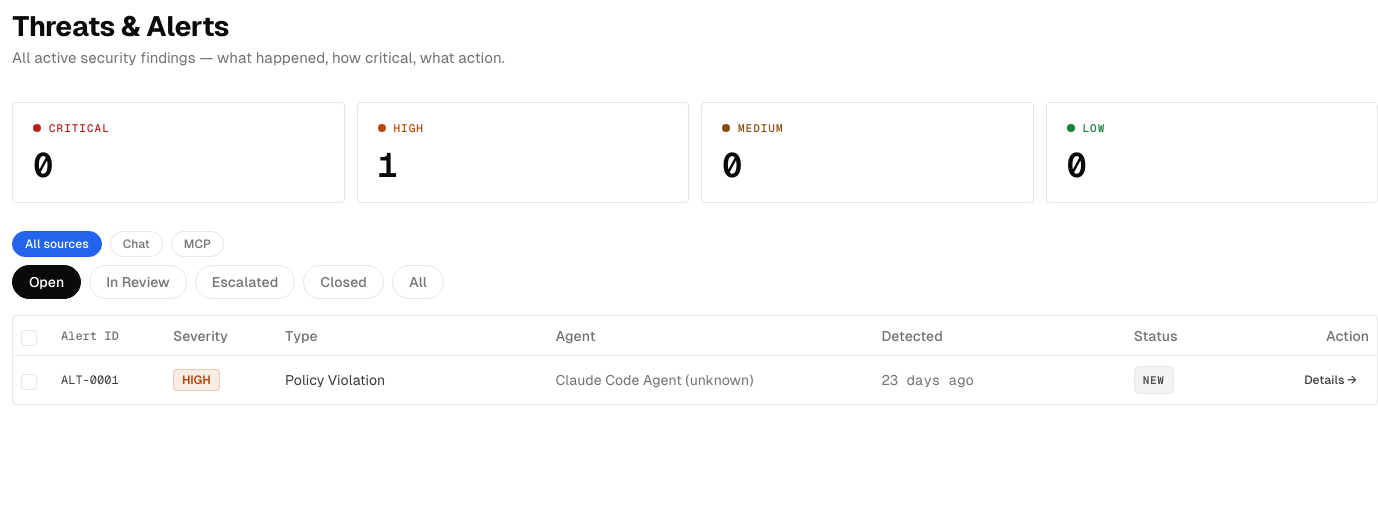
it: ThreatsAlertsPage — list › shows per-filter empty states when alerts exist but none match
Click the button "In Review": (138, 282) [89,265,187,299]
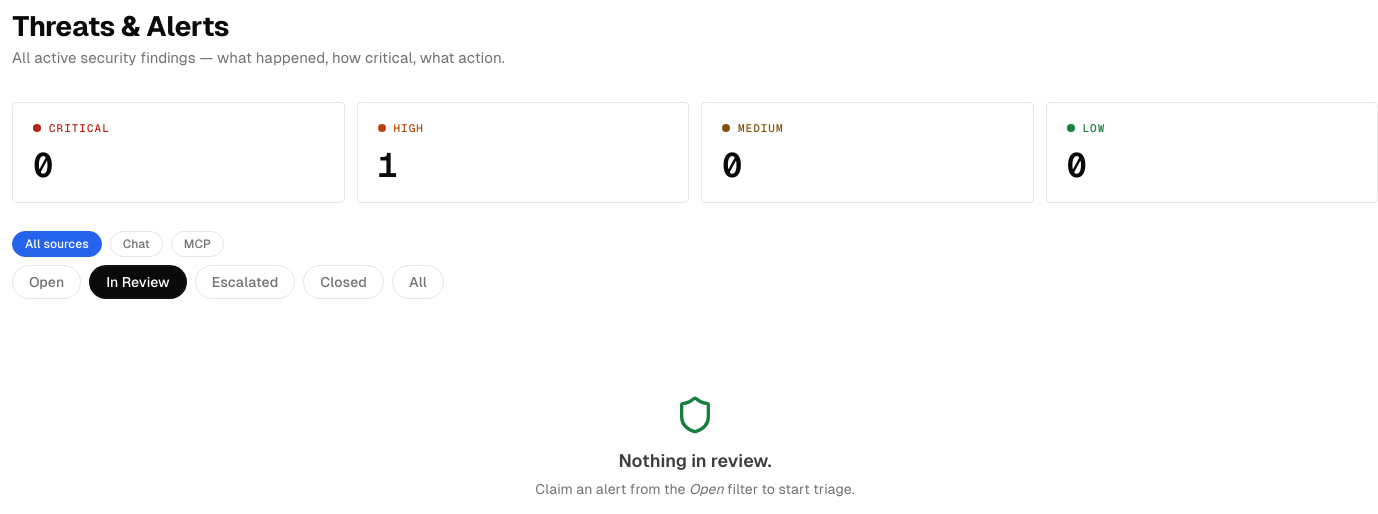
Result: the text "Nothing in review." is shown at [618,447,772,475]
Click the button "Escalated": (245, 282) [195,265,295,299]
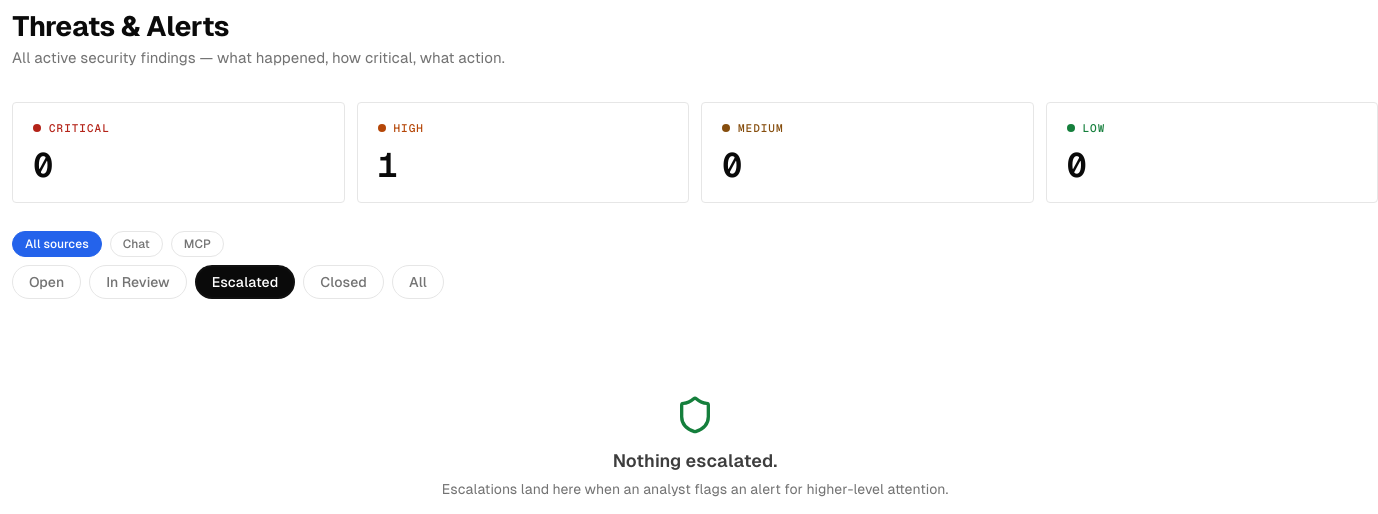
Result: the text "Nothing escalated." is shown at [613,447,777,475]
Click the button "Closed": (344, 282) [303,265,384,299]
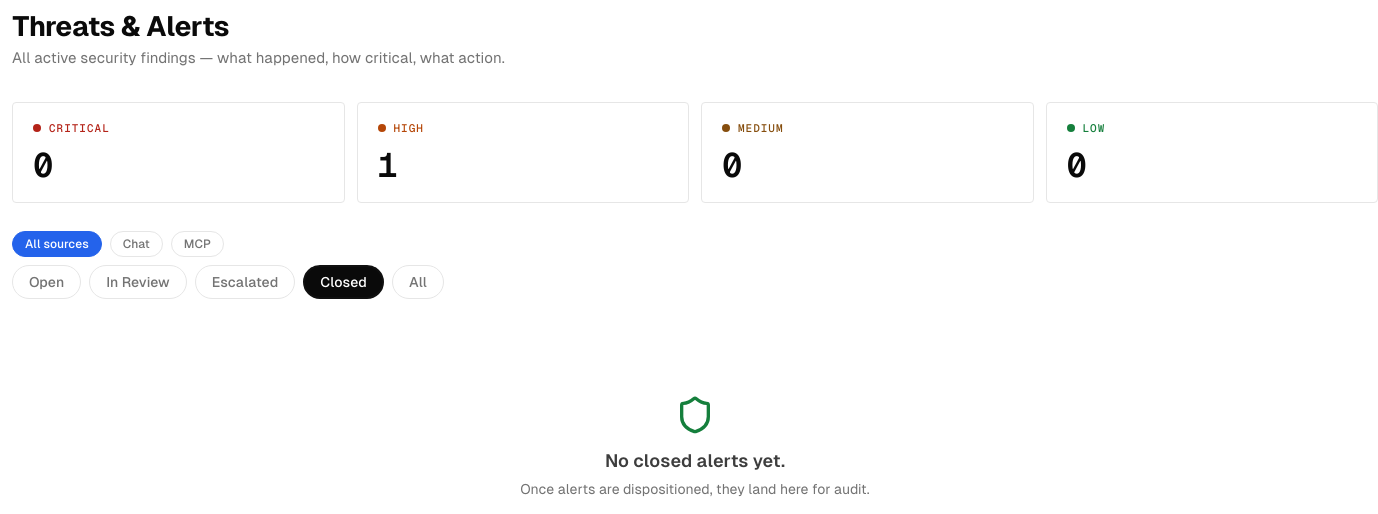
Result: the text "No closed alerts yet." is shown at [605,447,785,475]
